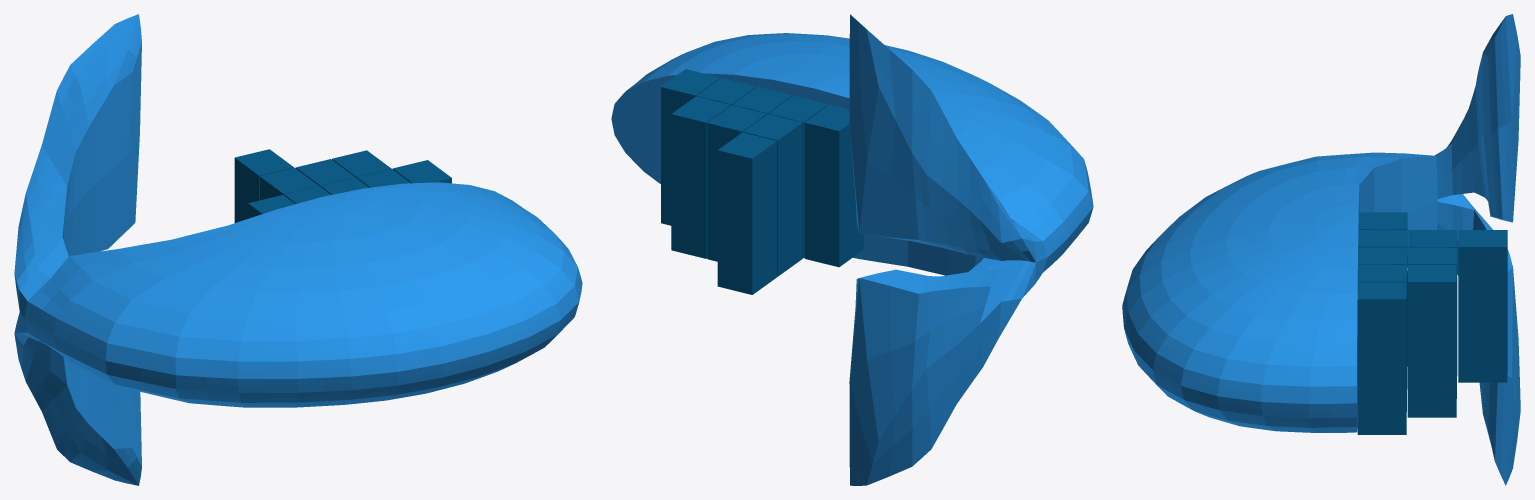
File: docker.glb
3 views of the same model, side by side, from view 1: azimuth 30°, elevation 25°; view 2: azimuth 150°, elevation 25°; view 3: azimuth 270°, elevation 25° (orthographic).
Visible parts, largest first — view 1: Sphere, Cube.008, Cube.009, Cube.010, Cube.011, Cube.004, Cube.003, Cube; view 2: Sphere, Cube.008, Cube, Cube.011, Cube.009, Cube.010, Cube.004, Cube.001, Cube.002, Cube.003; view 3: Sphere, Cube.008, Cube.004, Cube.011, Cube.001, Cube.003, Cube.009, Cube.002, Cube.010, Cube.
Boxes of the visible parts, x1=… form: Sphere: x1=14, y1=14, x2=582, y2=485; Cube.008: x1=234, y1=149, x2=293, y2=222; Cube.009: x1=259, y1=167, x2=318, y2=200; Cube.010: x1=295, y1=159, x2=354, y2=186; Cube.011: x1=332, y1=150, x2=390, y2=177; Cube.004: x1=392, y1=160, x2=451, y2=183; Cube.003: x1=356, y1=168, x2=410, y2=187; Cube: x1=248, y1=195, x2=295, y2=218; Sphere: x1=611, y1=14, x2=1093, y2=485; Cube.008: x1=717, y1=132, x2=777, y2=294; Cube: x1=804, y1=104, x2=863, y2=267; Cube.011: x1=671, y1=96, x2=730, y2=258; Cube.009: x1=743, y1=114, x2=802, y2=276; Cube.010: x1=707, y1=105, x2=766, y2=261; Cube.004: x1=661, y1=69, x2=720, y2=225; Cube.001: x1=768, y1=95, x2=827, y2=258; Cube.002: x1=733, y1=87, x2=791, y2=114; Cube.003: x1=697, y1=78, x2=756, y2=105; Sphere: x1=1122, y1=14, x2=1520, y2=485; Cube.008: x1=1458, y1=230, x2=1507, y2=382; Cube.004: x1=1357, y1=282, x2=1406, y2=434; Cube.011: x1=1407, y1=265, x2=1456, y2=417; Cube.001: x1=1358, y1=229, x2=1407, y2=366; Cube.003: x1=1358, y1=264, x2=1406, y2=411; Cube.009: x1=1408, y1=230, x2=1457, y2=375; Cube.002: x1=1358, y1=247, x2=1407, y2=388; Cube.010: x1=1408, y1=247, x2=1456, y2=398; Cube: x1=1358, y1=212, x2=1407, y2=229.
Bounding box in the file's own units: 1.95 × 1.87 × 1.44.
